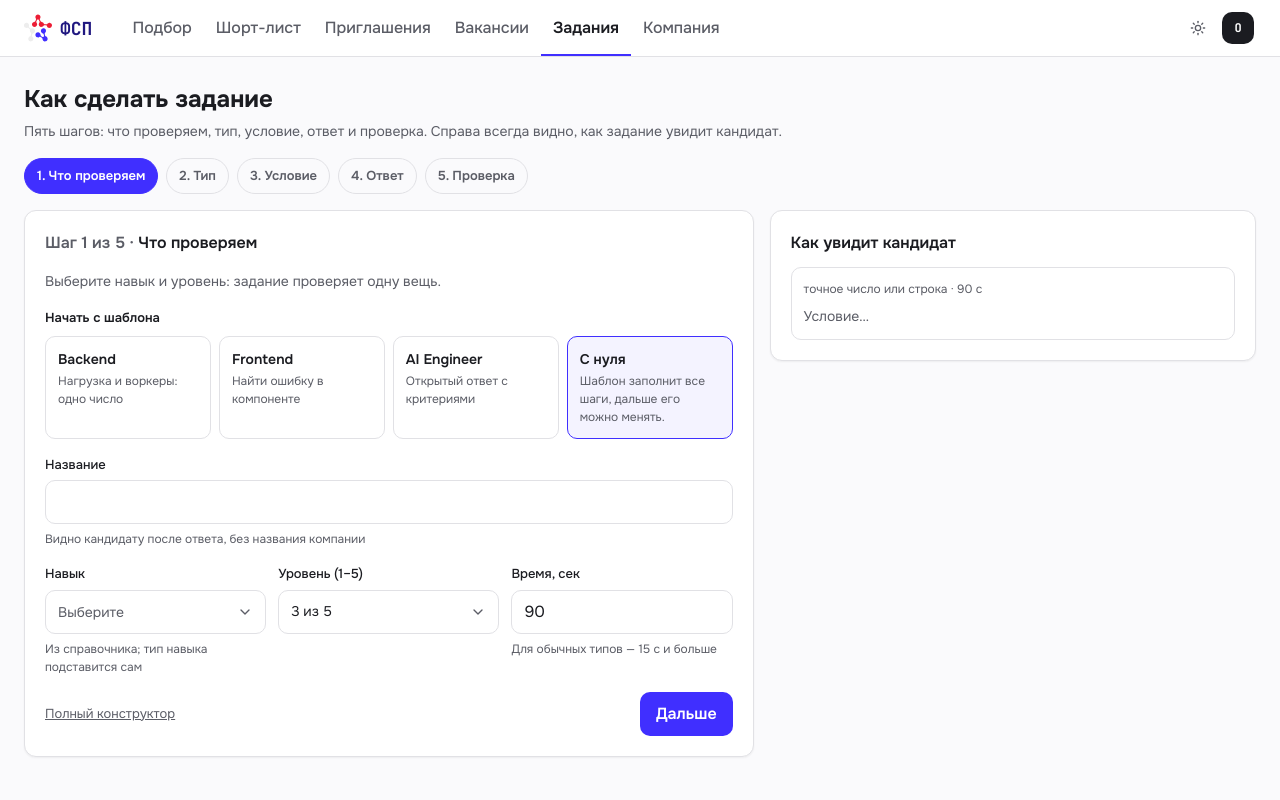
Test: мастер › задание по шаблону сохраняется за 5 шагов
What coordinates should you click on to do the following:
click the button with test id "guide-tpl-backend"
I would click on:
 (128, 387)
Its box is 45,336 -> 211,438.
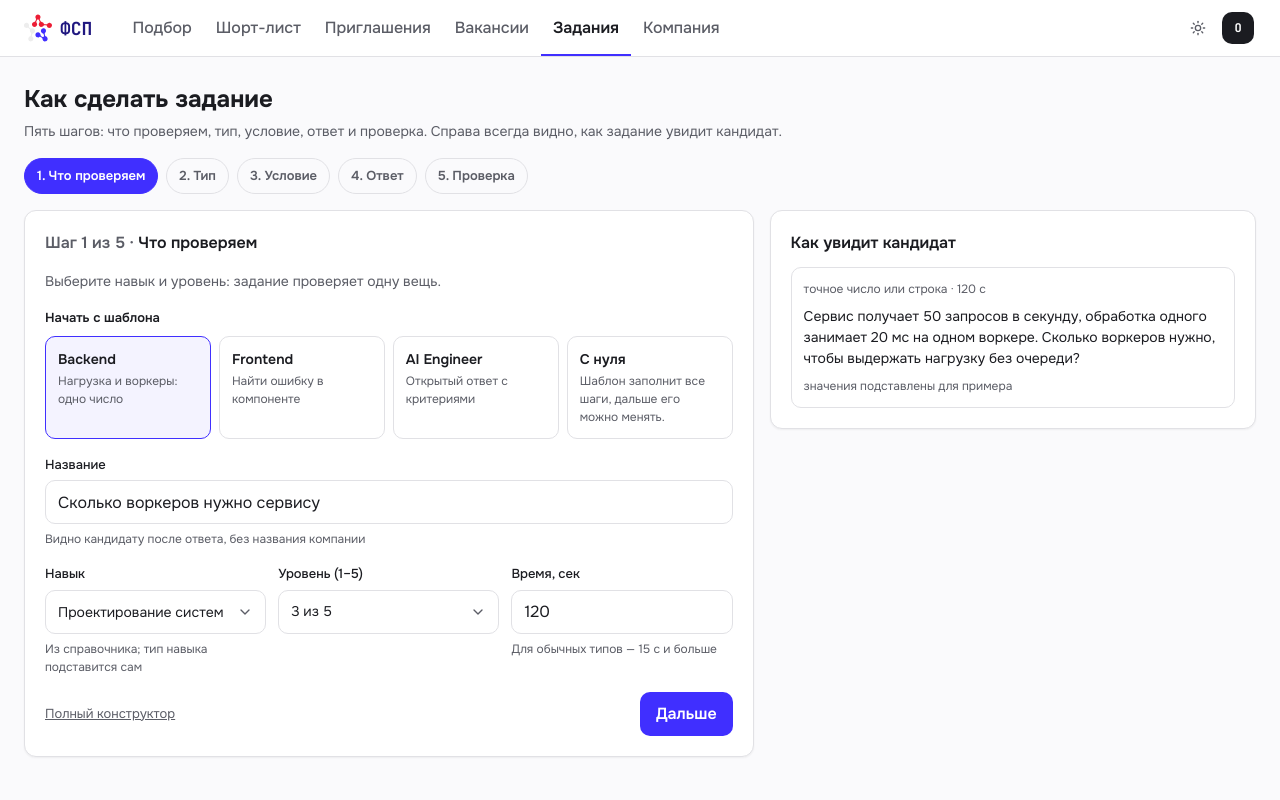
Result: the text with test id "guide-candidate-stem" shows "50 запросов" at 804,307 -> 1219,367
What coordinates should you click on to do the following:
click the button with test id "guide-next"
I would click on:
 (686, 714)
Its box is 640,692 -> 733,736.
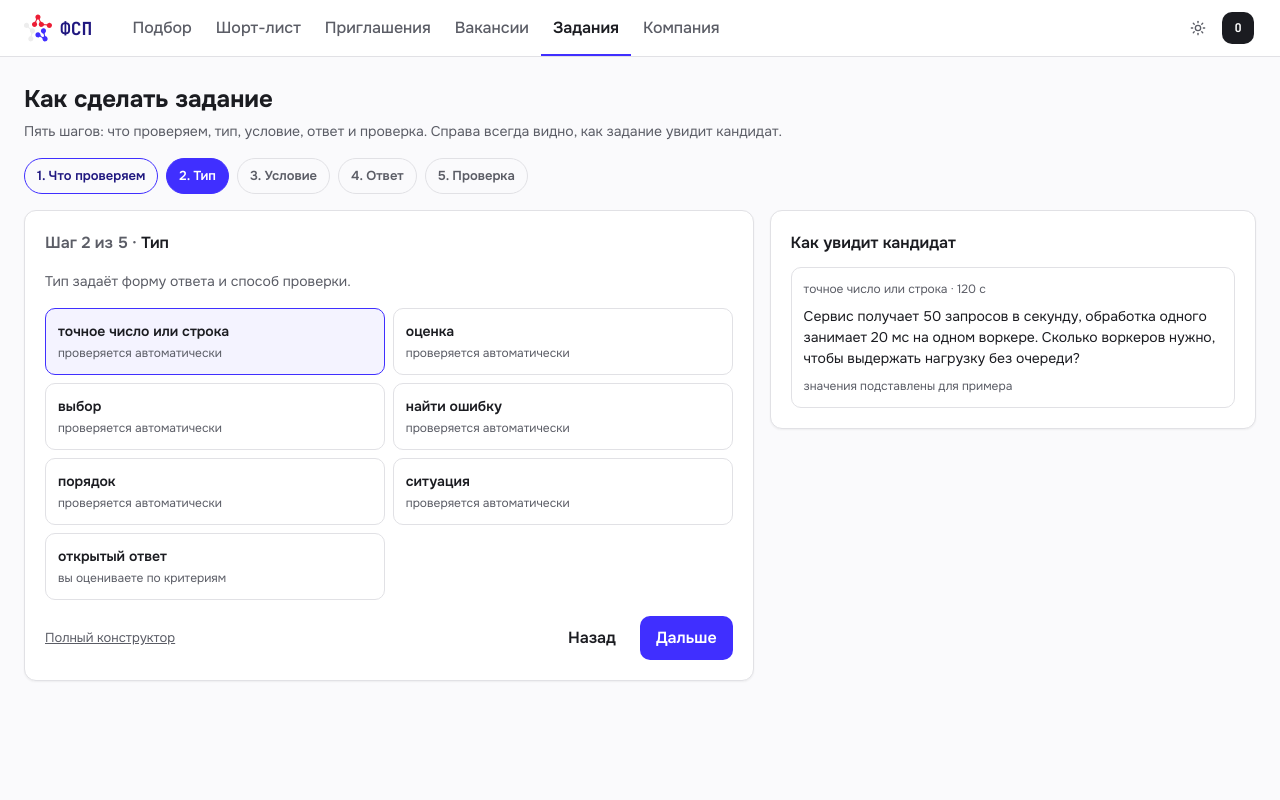
What coordinates should you click on to do the following:
click the button with test id "guide-next"
I would click on:
 (686, 638)
Its box is 640,616 -> 733,660.
(page scrolled)
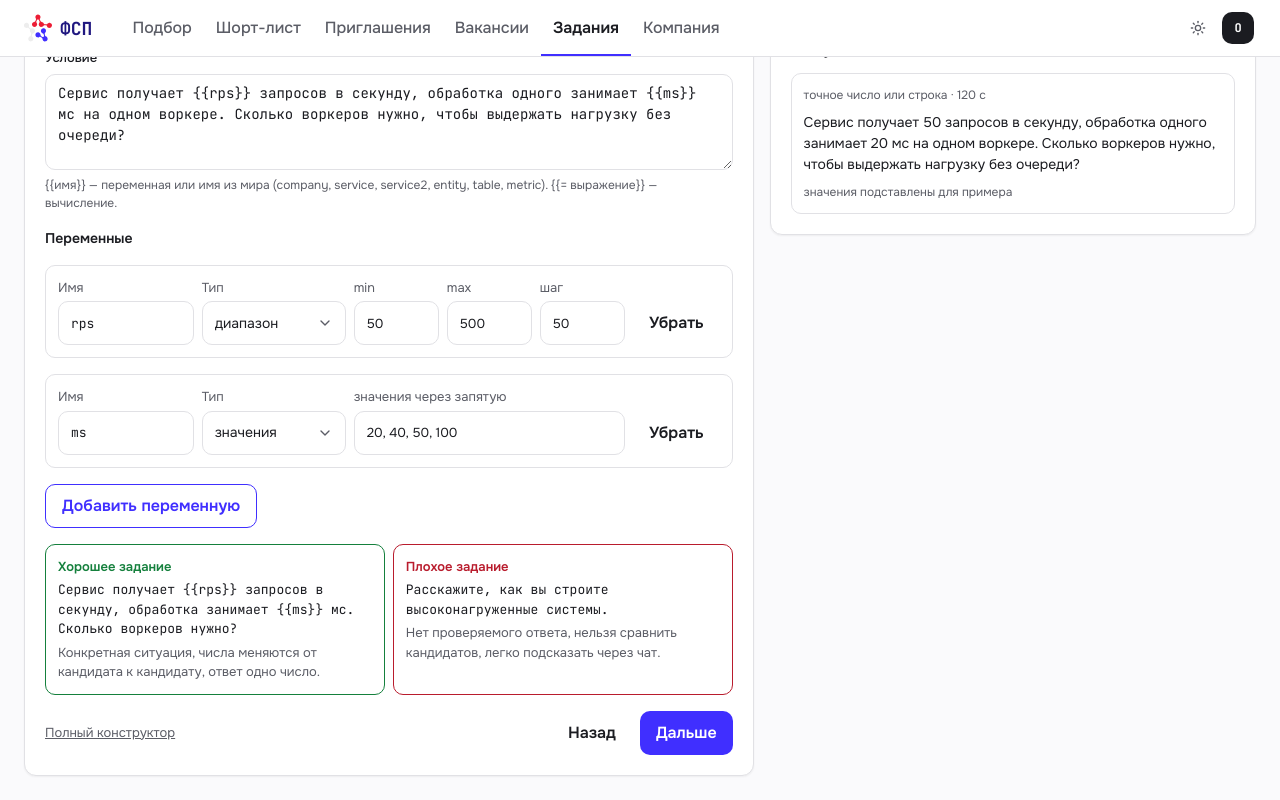
What coordinates should you click on to do the following:
click the button with test id "guide-next"
I would click on:
 (686, 732)
Its box is 640,710 -> 733,754.
(page scrolled)
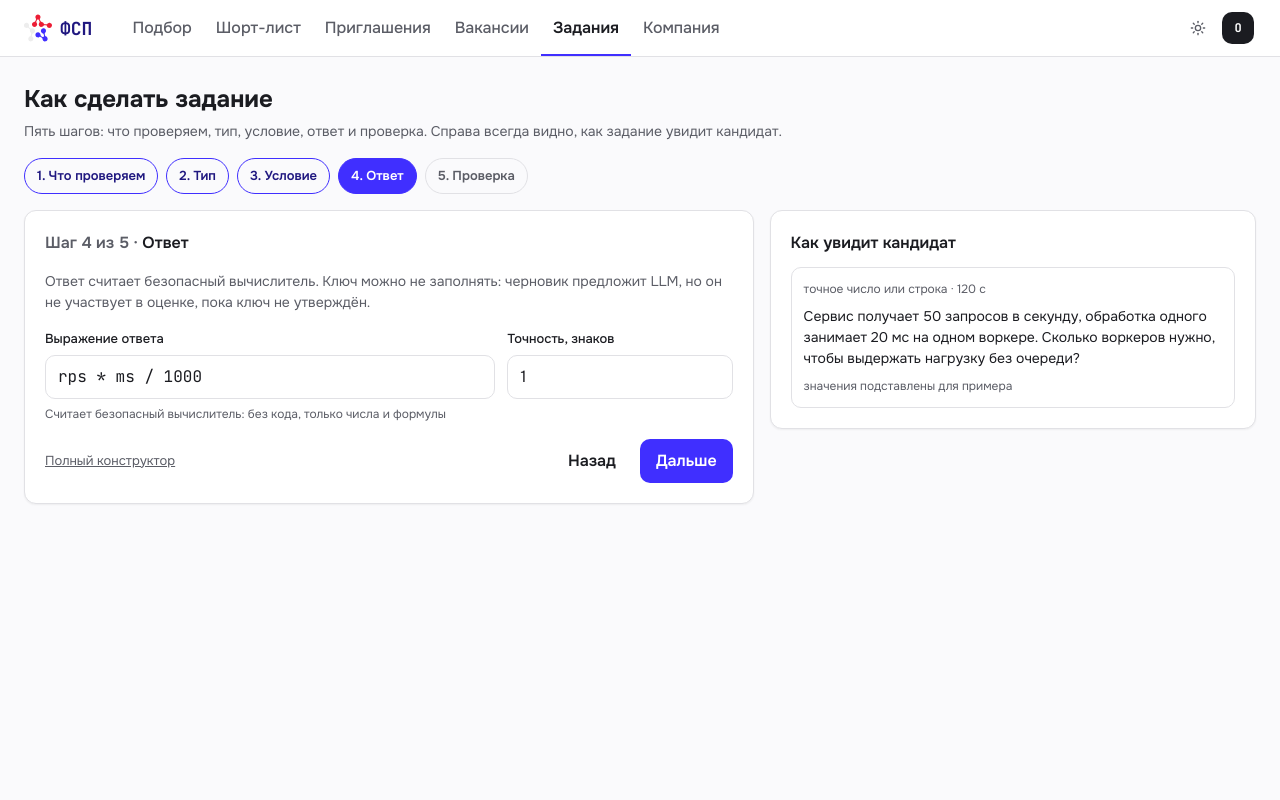
What coordinates should you click on to do the following:
click the button with test id "guide-next"
I would click on:
 (686, 460)
Its box is 640,438 -> 733,482.
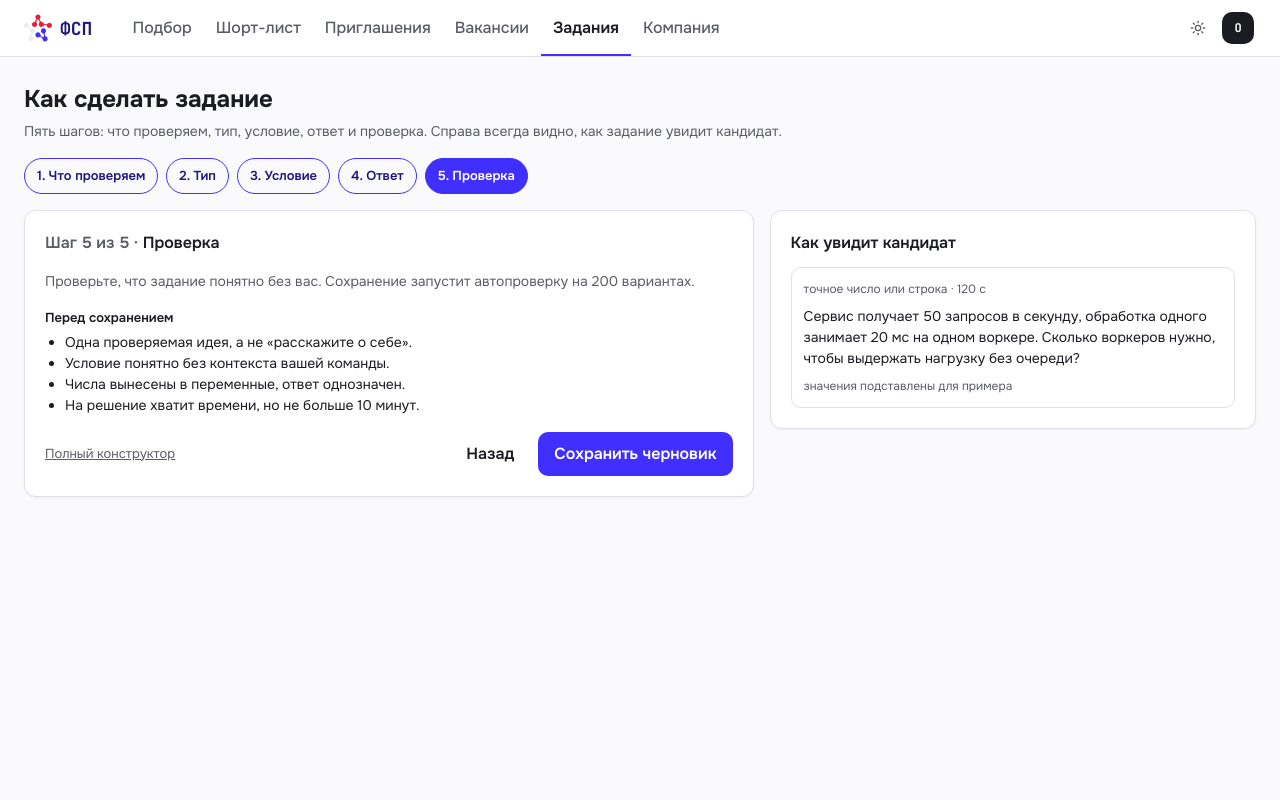
What coordinates should you click on to do the following:
click the button with test id "guide-save"
I would click on:
 (635, 454)
Its box is 538,432 -> 733,476.
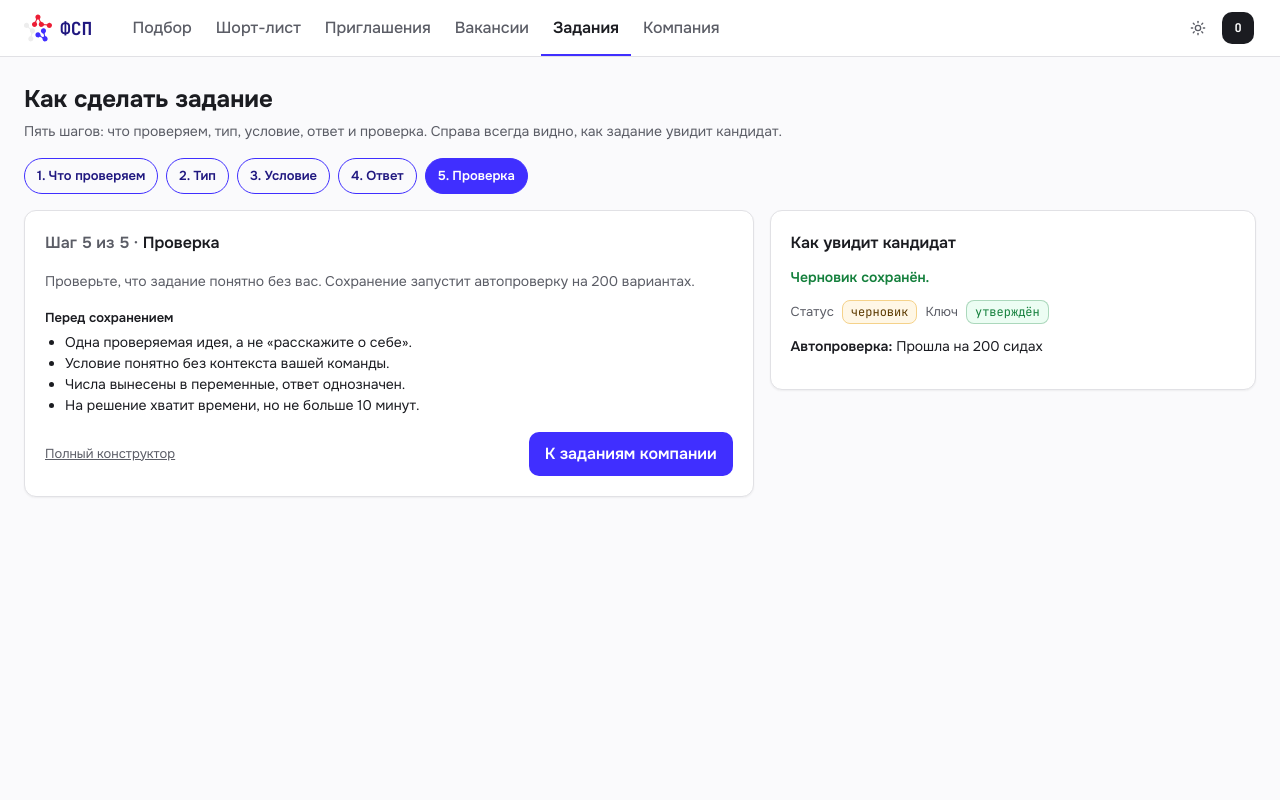
Result: the element with test id "constructor-preview" is shown at 791,268 -> 1049,355
